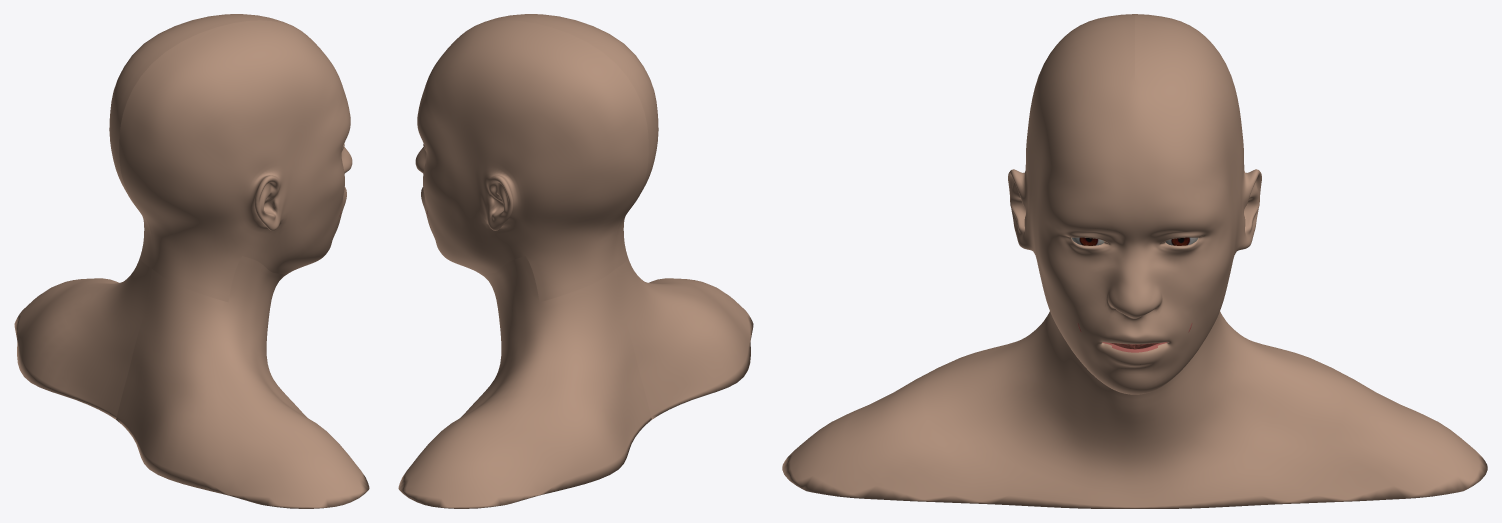
Rendered from makharij-realistic.glb.
3 renders of one model, left to right at view 1: azimuth 30°, elevation 25°; view 2: azimuth 150°, elevation 25°; view 3: azimuth 270°, elevation 25°, orthographic. The views are drawn at different scales.
Visible parts, largest first — view 1: HEAD_SKIN; view 2: HEAD_SKIN; view 3: HEAD_SKIN.
Boxes of the visible parts, <box> form: HEAD_SKIN: <box>14,14,369,508</box>; HEAD_SKIN: <box>398,14,753,508</box>; HEAD_SKIN: <box>782,14,1487,508</box>.
Bounding box in the file's own units: 0.2448 × 0.331 × 0.4693.
Materials: 11 (1 with a texture image).
